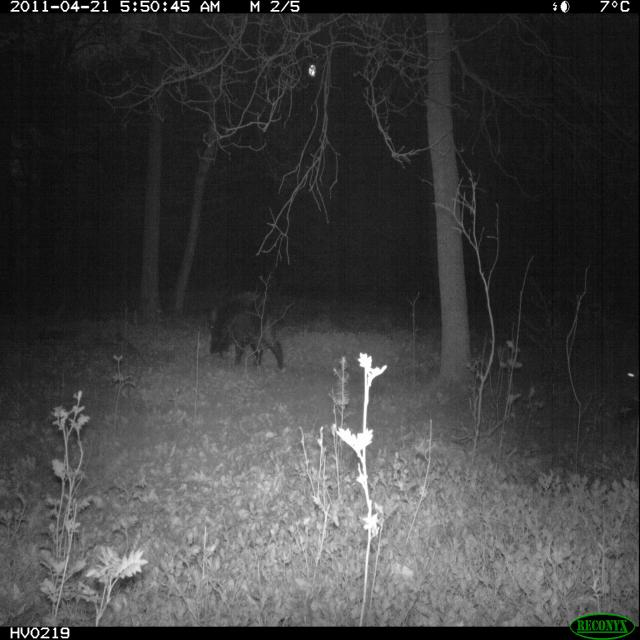boar: (184, 255, 314, 384)
